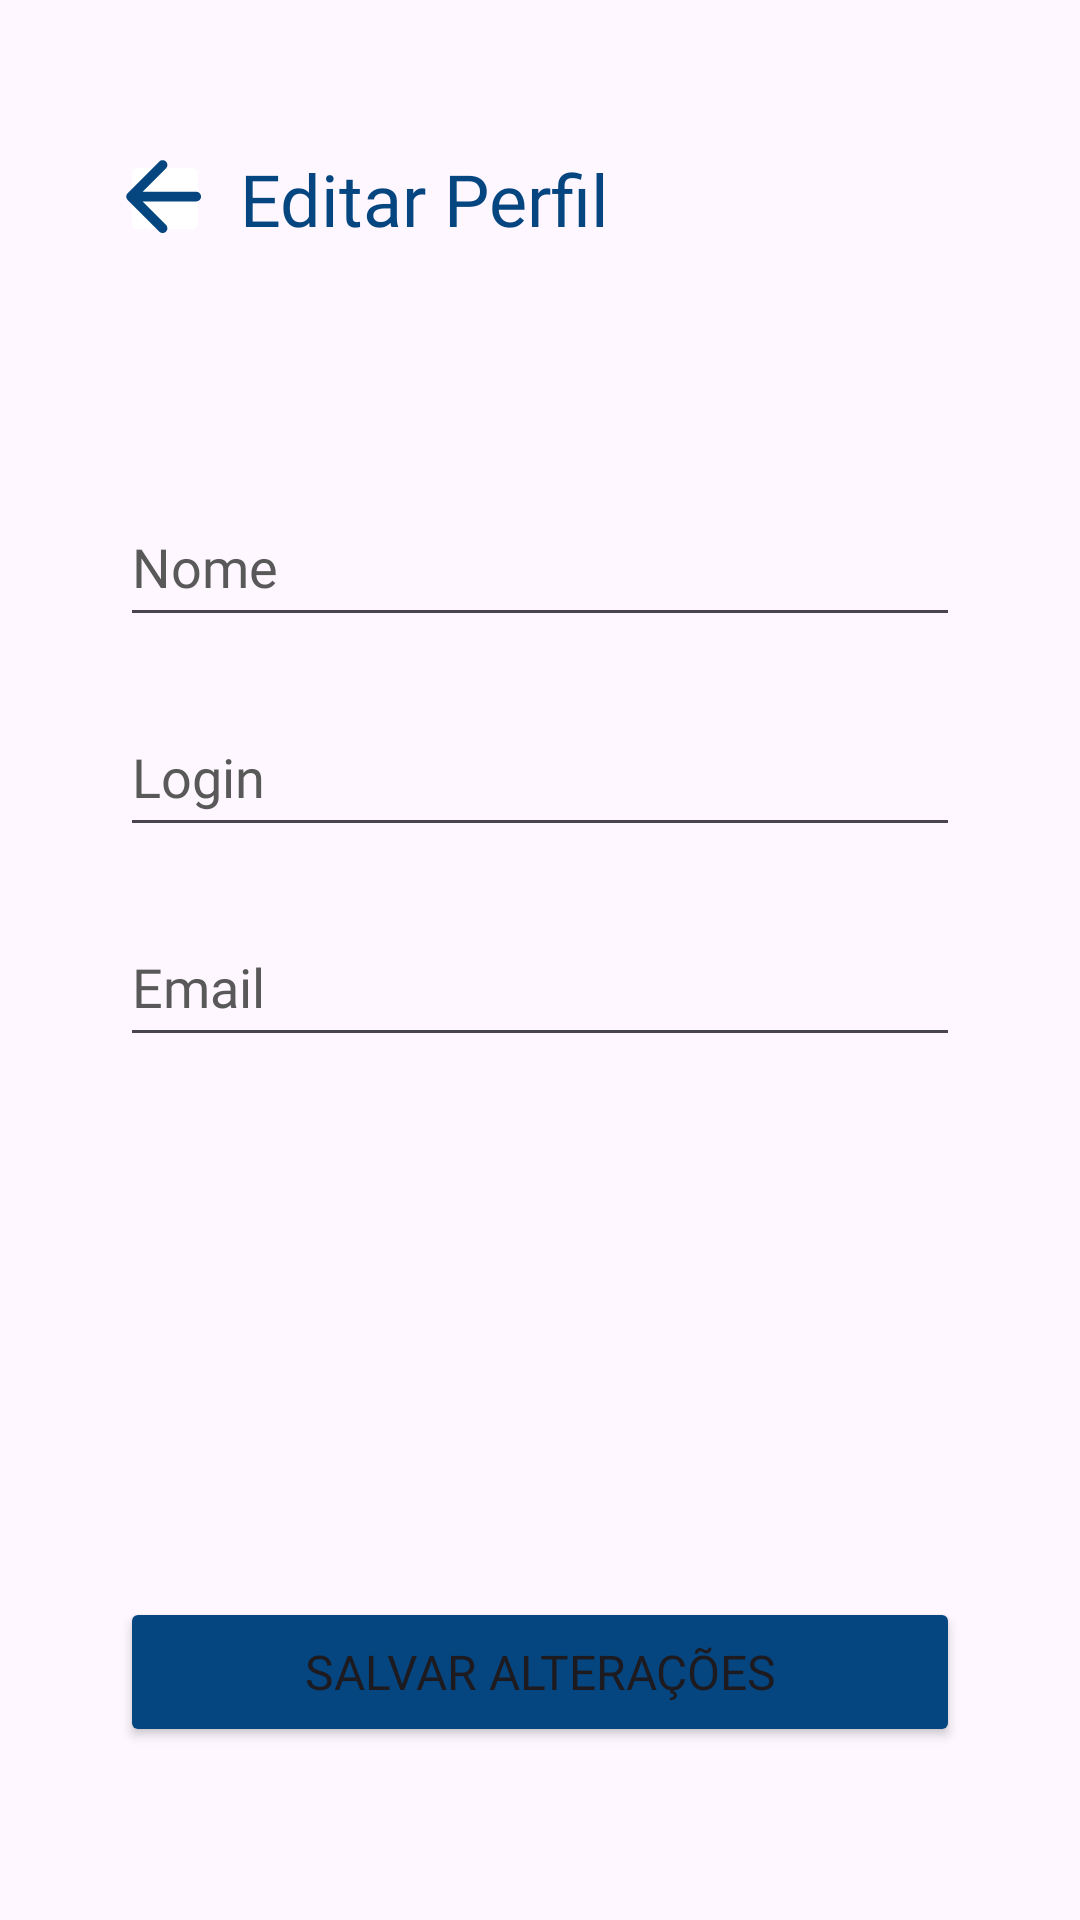

Named icons in this screenshot (1080x1920) and their bounding boxes, [x1,y1,x2,y2]:
arrow back: [126,160,201,233]
